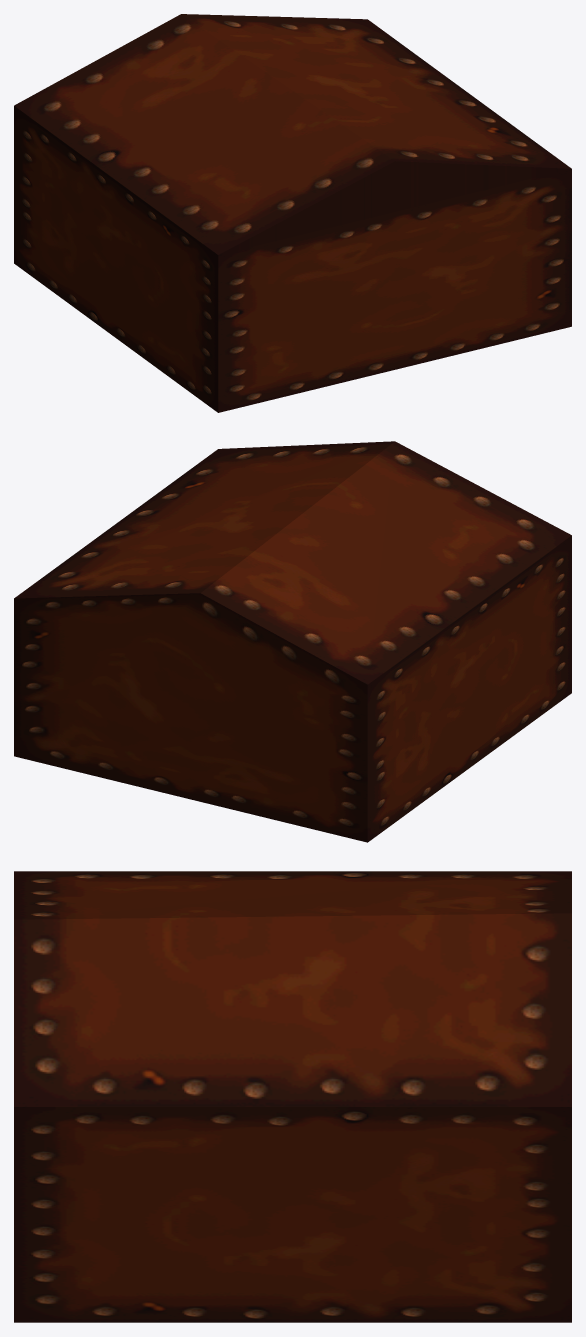
The model's file is Dachluke_Groß_1275.glb.
3 renders of one model, top to bottom at view 1: azimuth 30°, elevation 25°; view 2: azimuth 150°, elevation 25°; view 3: azimuth 270°, elevation 25°, orthographic. The views are drawn at different scales.
Visible parts, largest first — view 1: deckaufbau_hintenShape; view 2: deckaufbau_hintenShape; view 3: deckaufbau_hintenShape.
Part boxes in pixels (<box>): deckaufbau_hintenShape: <box>14,14,571,412</box>; deckaufbau_hintenShape: <box>14,441,571,842</box>; deckaufbau_hintenShape: <box>14,871,571,1322</box>.
Bounding box in the file's own units: 1 × 0.5637 × 1.
1 material, 1 textured.
